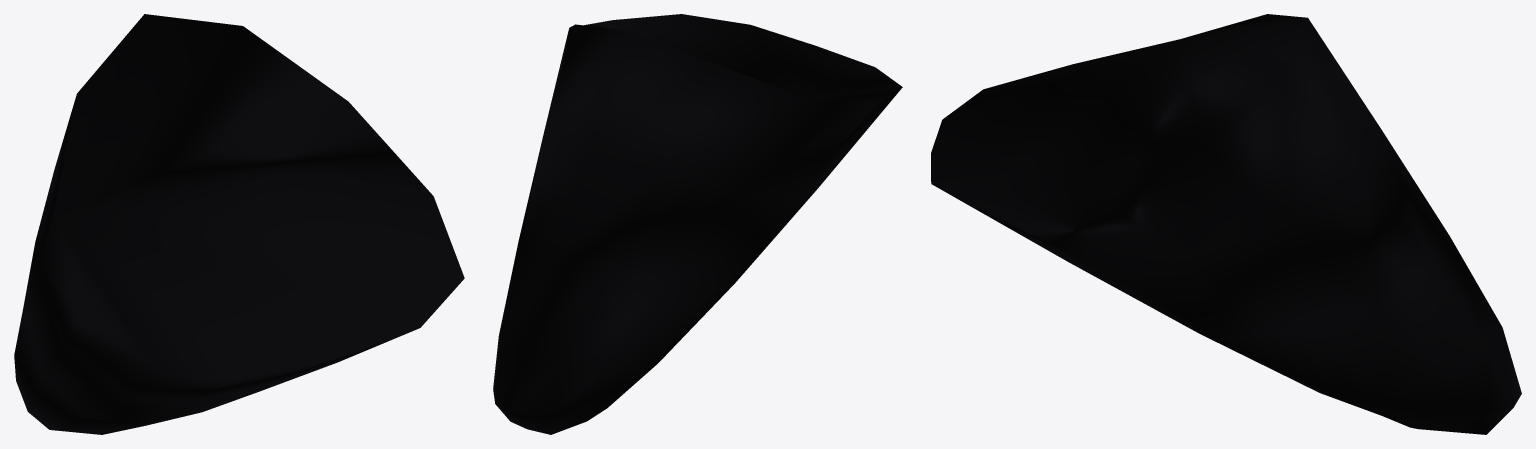
File: pierna2ZIM.obj
3 renders of one model, left to right at view 1: azimuth 30°, elevation 25°; view 2: azimuth 150°, elevation 25°; view 3: azimuth 270°, elevation 25°, orthographic. The views are drawn at different scales.
Parts seen in each view (by area): view 1: PIERNA_1; view 2: PIERNA_1; view 3: PIERNA_1.
Boxes of the visible parts, x1=… form: PIERNA_1: x1=14, y1=14, x2=464, y2=434; PIERNA_1: x1=493, y1=14, x2=902, y2=434; PIERNA_1: x1=931, y1=14, x2=1521, y2=434.
Bounding box in the file's own units: 0.0569 × 0.0724 × 0.0971.
Materials: 1 (1 with a texture image).
